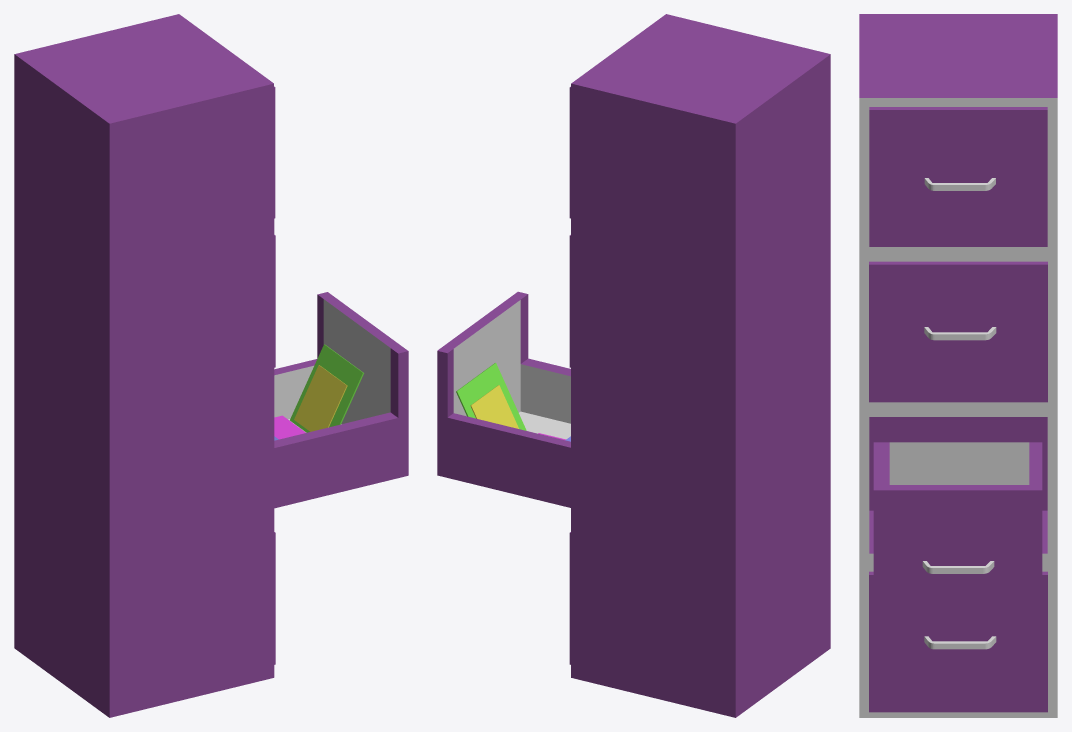
Rendered from cajones.fbx.
3 renders of one model, left to right at view 1: azimuth 30°, elevation 25°; view 2: azimuth 150°, elevation 25°; view 3: azimuth 270°, elevation 25°, orthographic. The views are drawn at different scales.
Visible parts, largest first — view 1: Cube.001; view 2: Cube.001; view 3: Cube.001.
Boxes of the visible parts, x1,y1,x2,y2 form: Cube.001: (14,14,408,717); Cube.001: (437,14,830,717); Cube.001: (859,14,1057,717).
Bounding box in the file's own units: 83.76 × 149 × 43.12.
